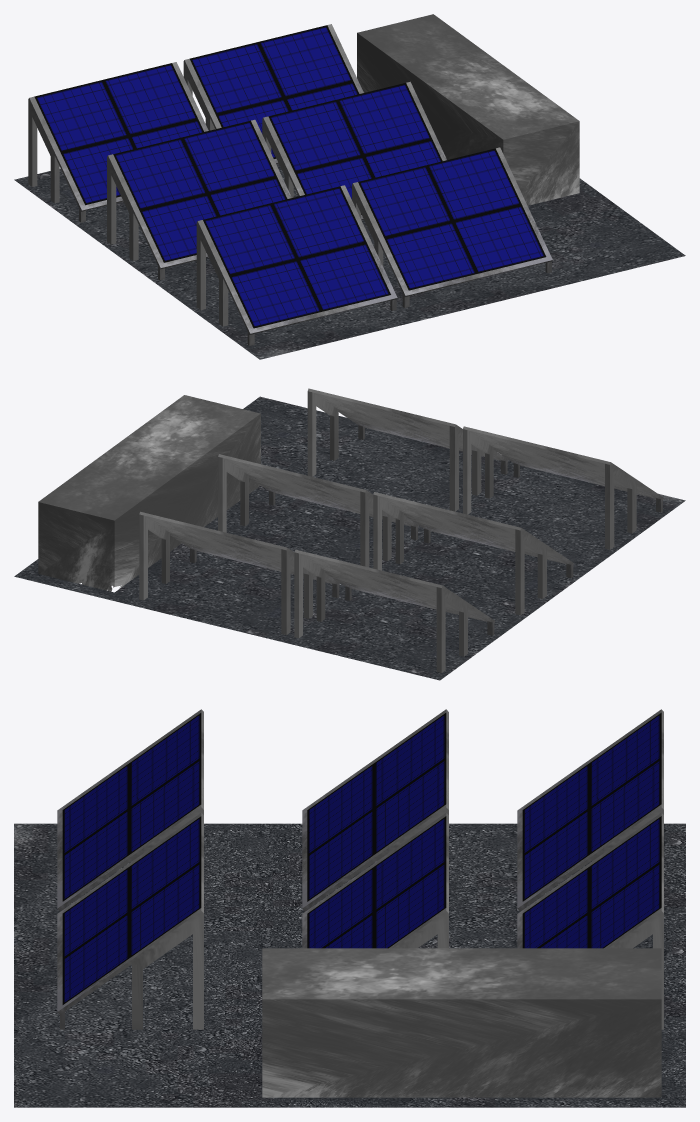
Rendered from SolarPlant.fbx.
The picture shows the model from 3 angles, top to bottom: view 1: azimuth 30°, elevation 25°; view 2: azimuth 150°, elevation 25°; view 3: azimuth 270°, elevation 25°; orthographic projection. The views are drawn at different scales.
Visible parts, largest first — view 1: SolarPlant; view 2: SolarPlant; view 3: SolarPlant.
Boxes of the visible parts, box(x1,y1,x2,y2) form: SolarPlant: box(14, 14, 685, 359); SolarPlant: box(14, 388, 685, 680); SolarPlant: box(14, 709, 685, 1107).
Size of the model in its own units: 200 by 39.16 by 200.
Materials: 1 (1 with a texture image).
